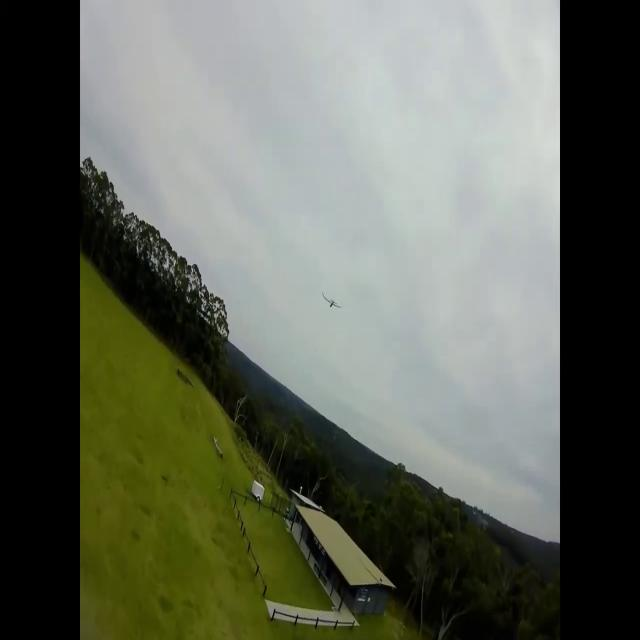iha: (323, 289, 343, 309)
